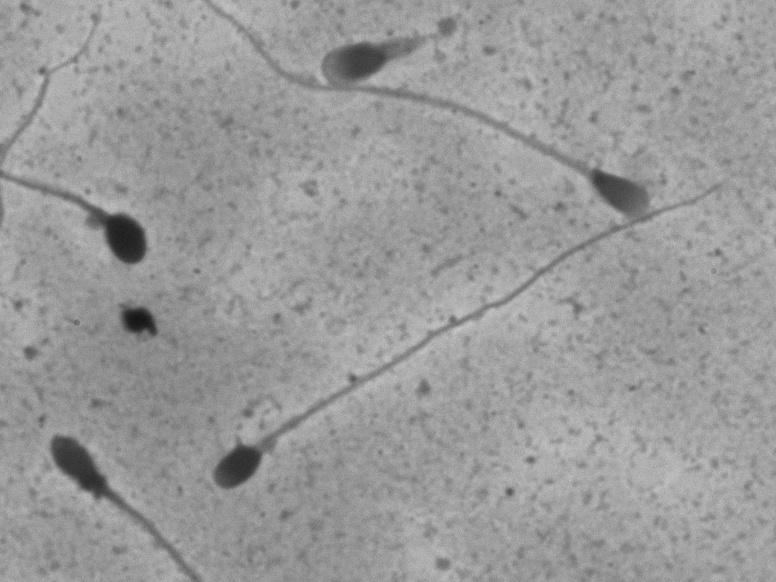Abnormal: (13, 19, 157, 289), (22, 394, 176, 569), (309, 9, 443, 91)
Normal: (197, 159, 745, 514)
